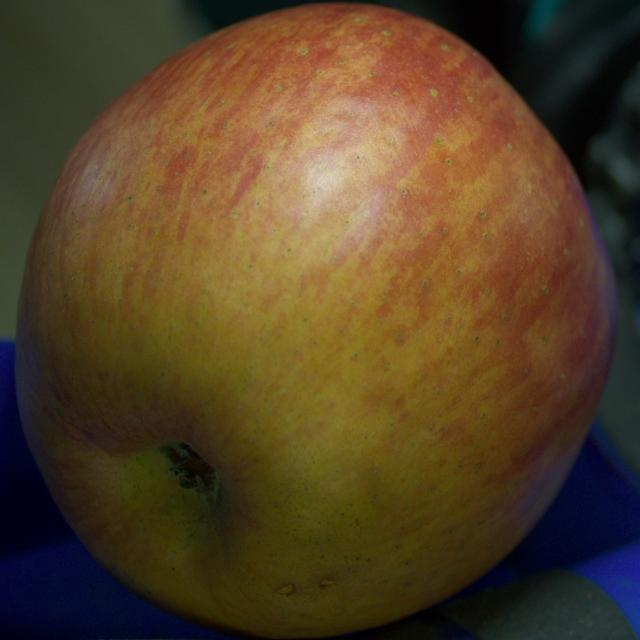apple: (15, 4, 616, 639)
pest: (276, 584, 293, 595), (321, 579, 336, 586)
